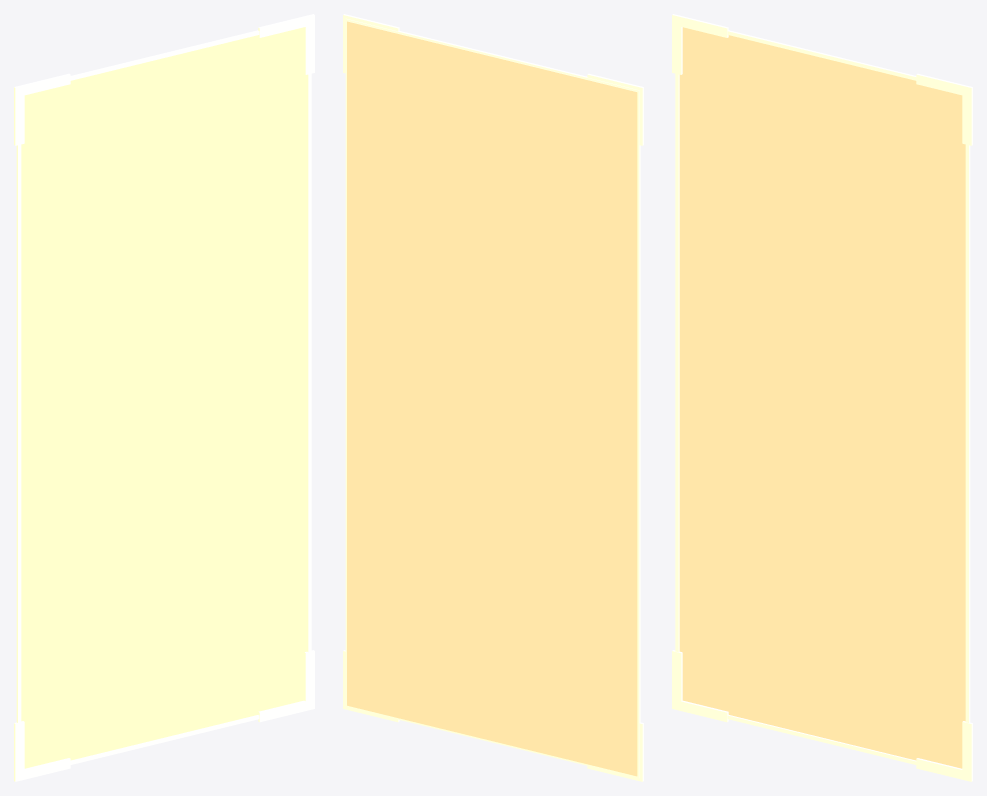
The model's file is slot_outline_10hp.glb.
3 renders of one model, left to right at view 1: azimuth 30°, elevation 25°; view 2: azimuth 150°, elevation 25°; view 3: azimuth 330°, elevation 25°, orthographic.
Visible parts, largest first — view 1: SlotOutline_Fill, SlotOutline_Edge, SlotOutline_Corner3, SlotOutline_Corner0, SlotOutline_Corner1, SlotOutline_Corner2; view 2: SlotOutline_Fill, SlotOutline_Edge, SlotOutline_Corner3; view 3: SlotOutline_Fill, SlotOutline_Edge, SlotOutline_Corner2, SlotOutline_Corner0, SlotOutline_Corner1, SlotOutline_Corner3.
Part boxes in pixels (bbox=[...]): SlotOutline_Fill: bbox=[21, 27, 307, 768]; SlotOutline_Edge: bbox=[16, 30, 311, 764]; SlotOutline_Corner3: bbox=[14, 73, 70, 145]; SlotOutline_Corner0: bbox=[14, 721, 70, 781]; SlotOutline_Corner1: bbox=[258, 650, 314, 722]; SlotOutline_Corner2: bbox=[258, 14, 314, 74]; SlotOutline_Fill: bbox=[347, 21, 637, 776]; SlotOutline_Edge: bbox=[345, 18, 640, 778]; SlotOutline_Corner3: bbox=[587, 73, 643, 145]; SlotOutline_Fill: bbox=[679, 27, 965, 768]; SlotOutline_Edge: bbox=[675, 30, 970, 764]; SlotOutline_Corner2: bbox=[916, 73, 972, 145]; SlotOutline_Corner0: bbox=[672, 650, 728, 722]; SlotOutline_Corner1: bbox=[916, 721, 972, 781]; SlotOutline_Corner3: bbox=[672, 14, 728, 74].
Bounding box in the file's own units: 0.52 × 1.15 × 0.006.
